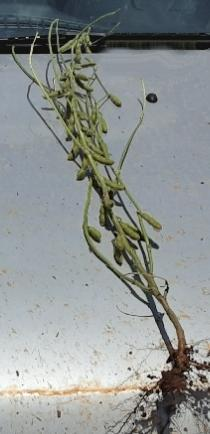soja: (139, 211, 164, 231), (83, 223, 105, 243), (90, 152, 116, 168), (71, 98, 88, 122), (122, 221, 142, 241), (98, 179, 126, 193), (108, 86, 123, 111), (74, 159, 90, 182), (99, 111, 112, 133), (98, 204, 110, 227), (111, 249, 126, 266), (59, 38, 74, 54), (73, 70, 90, 83), (97, 137, 110, 154), (75, 40, 85, 62), (75, 82, 95, 93), (66, 146, 80, 161), (115, 235, 126, 254), (68, 115, 78, 135), (43, 90, 62, 98)
